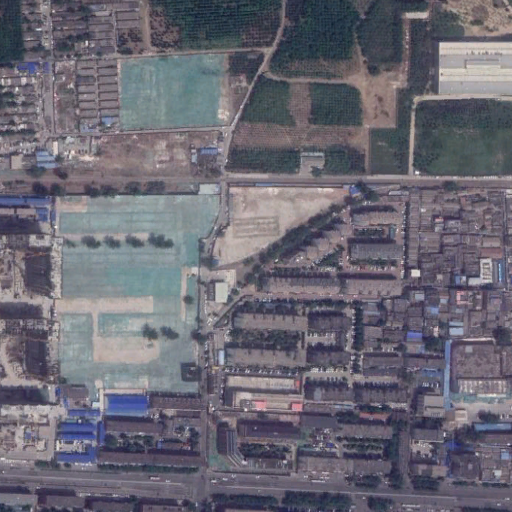cw: (54, 192, 216, 387), (121, 55, 229, 129)
